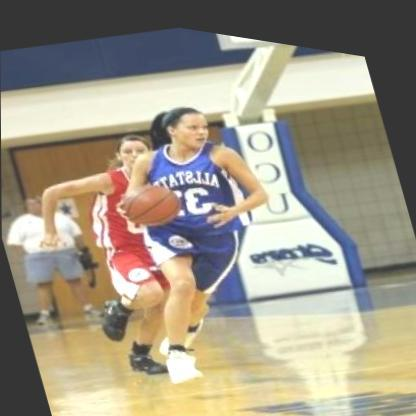basketball: (114, 166, 189, 234)
